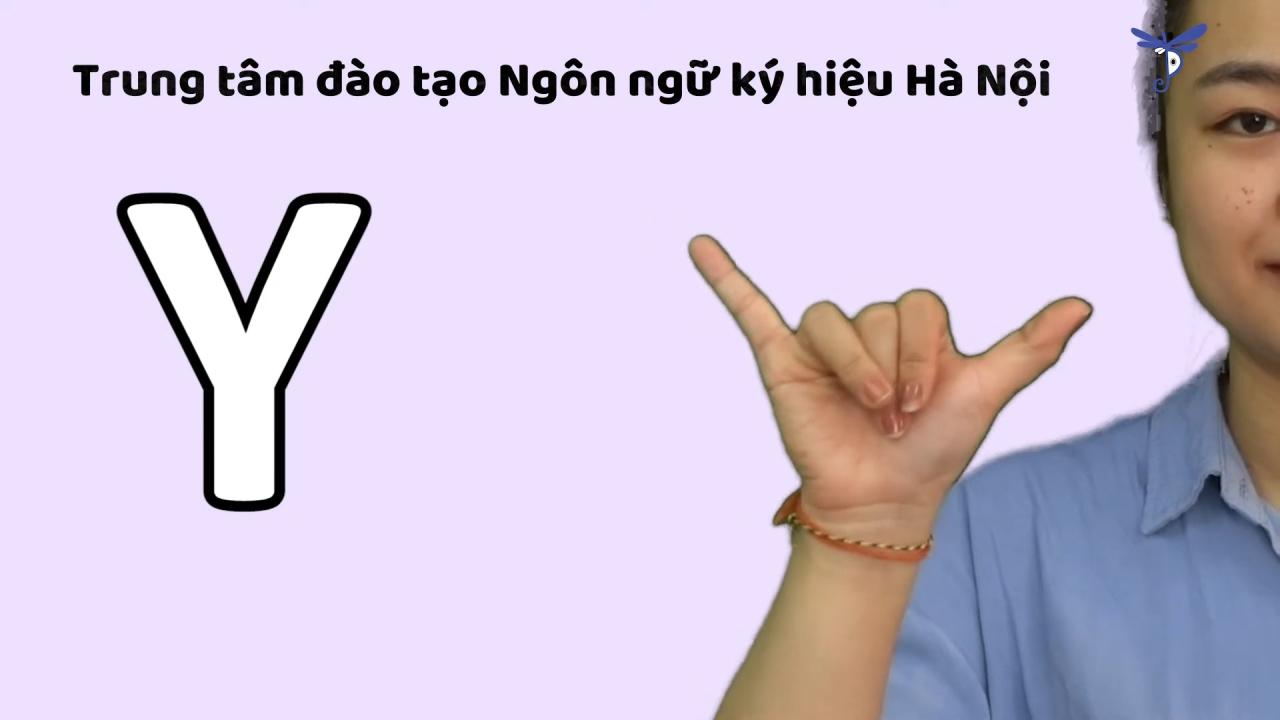Y: (674, 222, 1099, 533)
